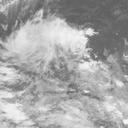cyclone: (19, 20, 90, 73)
